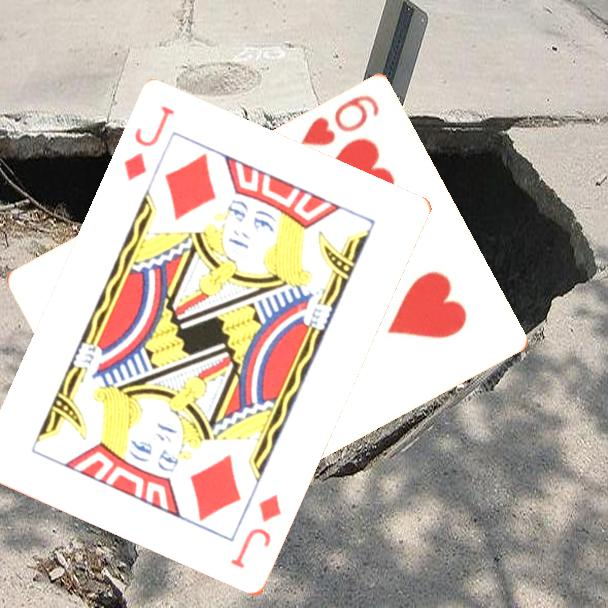d11: (120, 102, 178, 185), (227, 491, 285, 572)
h06: (297, 90, 383, 149)
